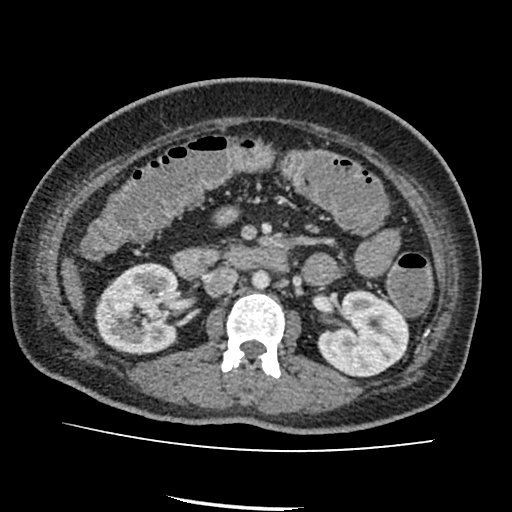aorta: (251, 271, 270, 289)
